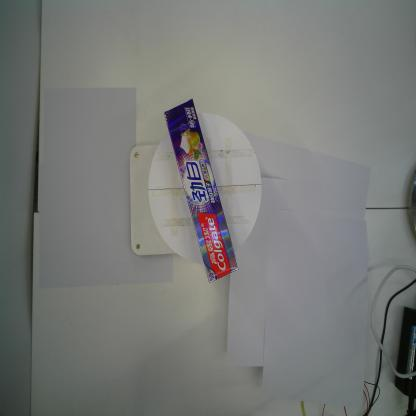Personal Hygiene: (162, 95, 240, 286)
